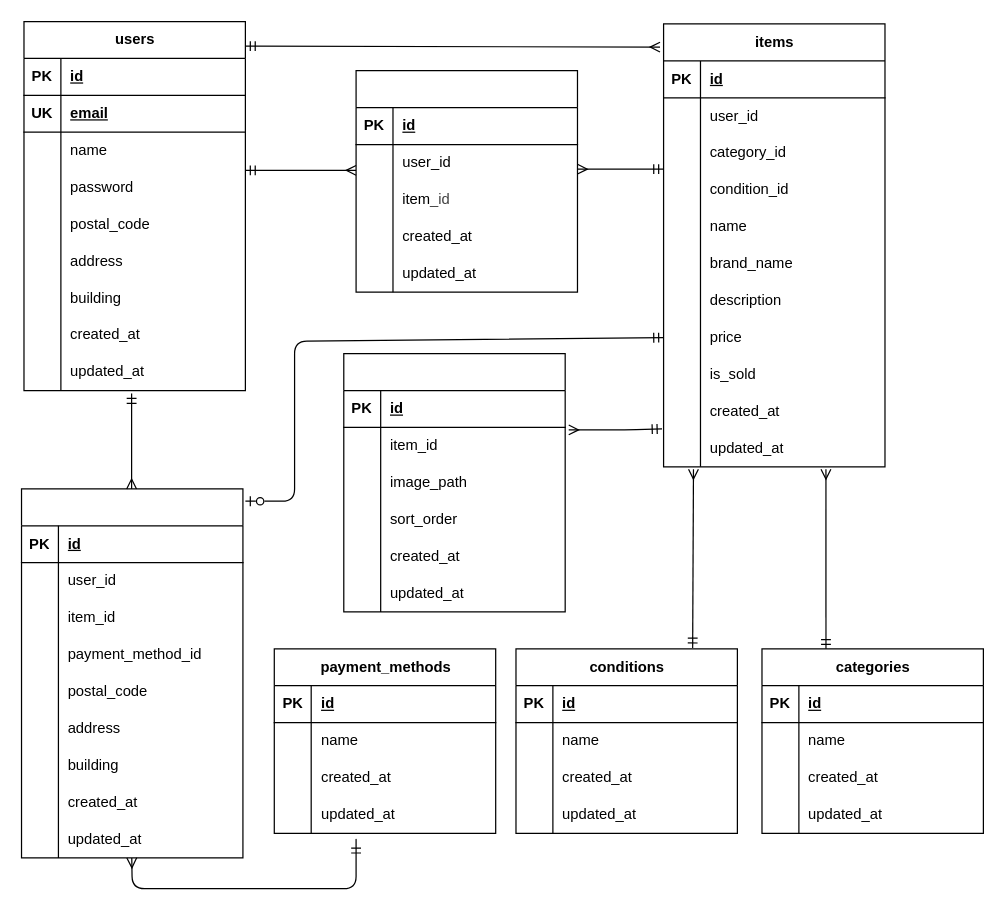
This 1005x921 diagram has some shape labels left out. Here are the shapes that lost their labels. From the top down, the box of each, then its label:
(355, 69, 577, 292): likes
(343, 352, 565, 612): item_images
(20, 488, 243, 858): orders
